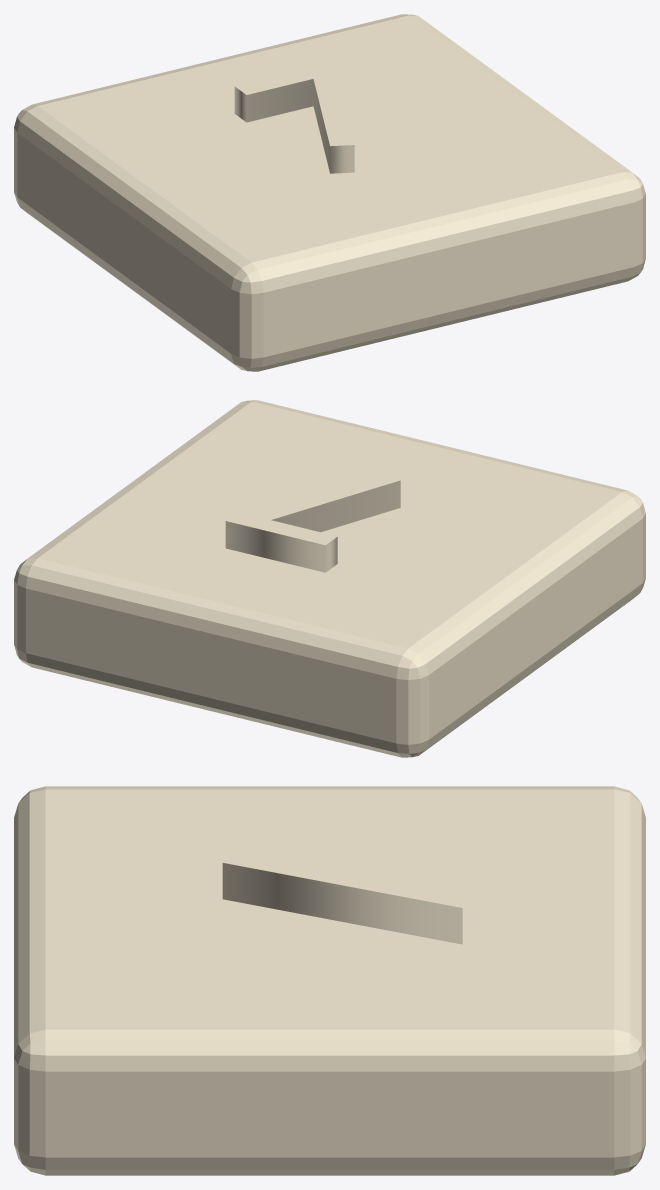
The model's file is Tile_7.fbx.
The picture shows the model from 3 angles, top to bottom: view 1: azimuth 30°, elevation 25°; view 2: azimuth 150°, elevation 25°; view 3: azimuth 270°, elevation 25°; orthographic projection. The views are drawn at different scales.
Parts seen in each view (by area): view 1: Tile_7; view 2: Tile_7; view 3: Tile_7.
Boxes of the visible parts, bbox=[...] form: Tile_7: bbox=[14, 14, 645, 371]; Tile_7: bbox=[14, 400, 645, 757]; Tile_7: bbox=[14, 786, 645, 1175].
Size of the model in its own units: 80 by 25.1 by 80.
